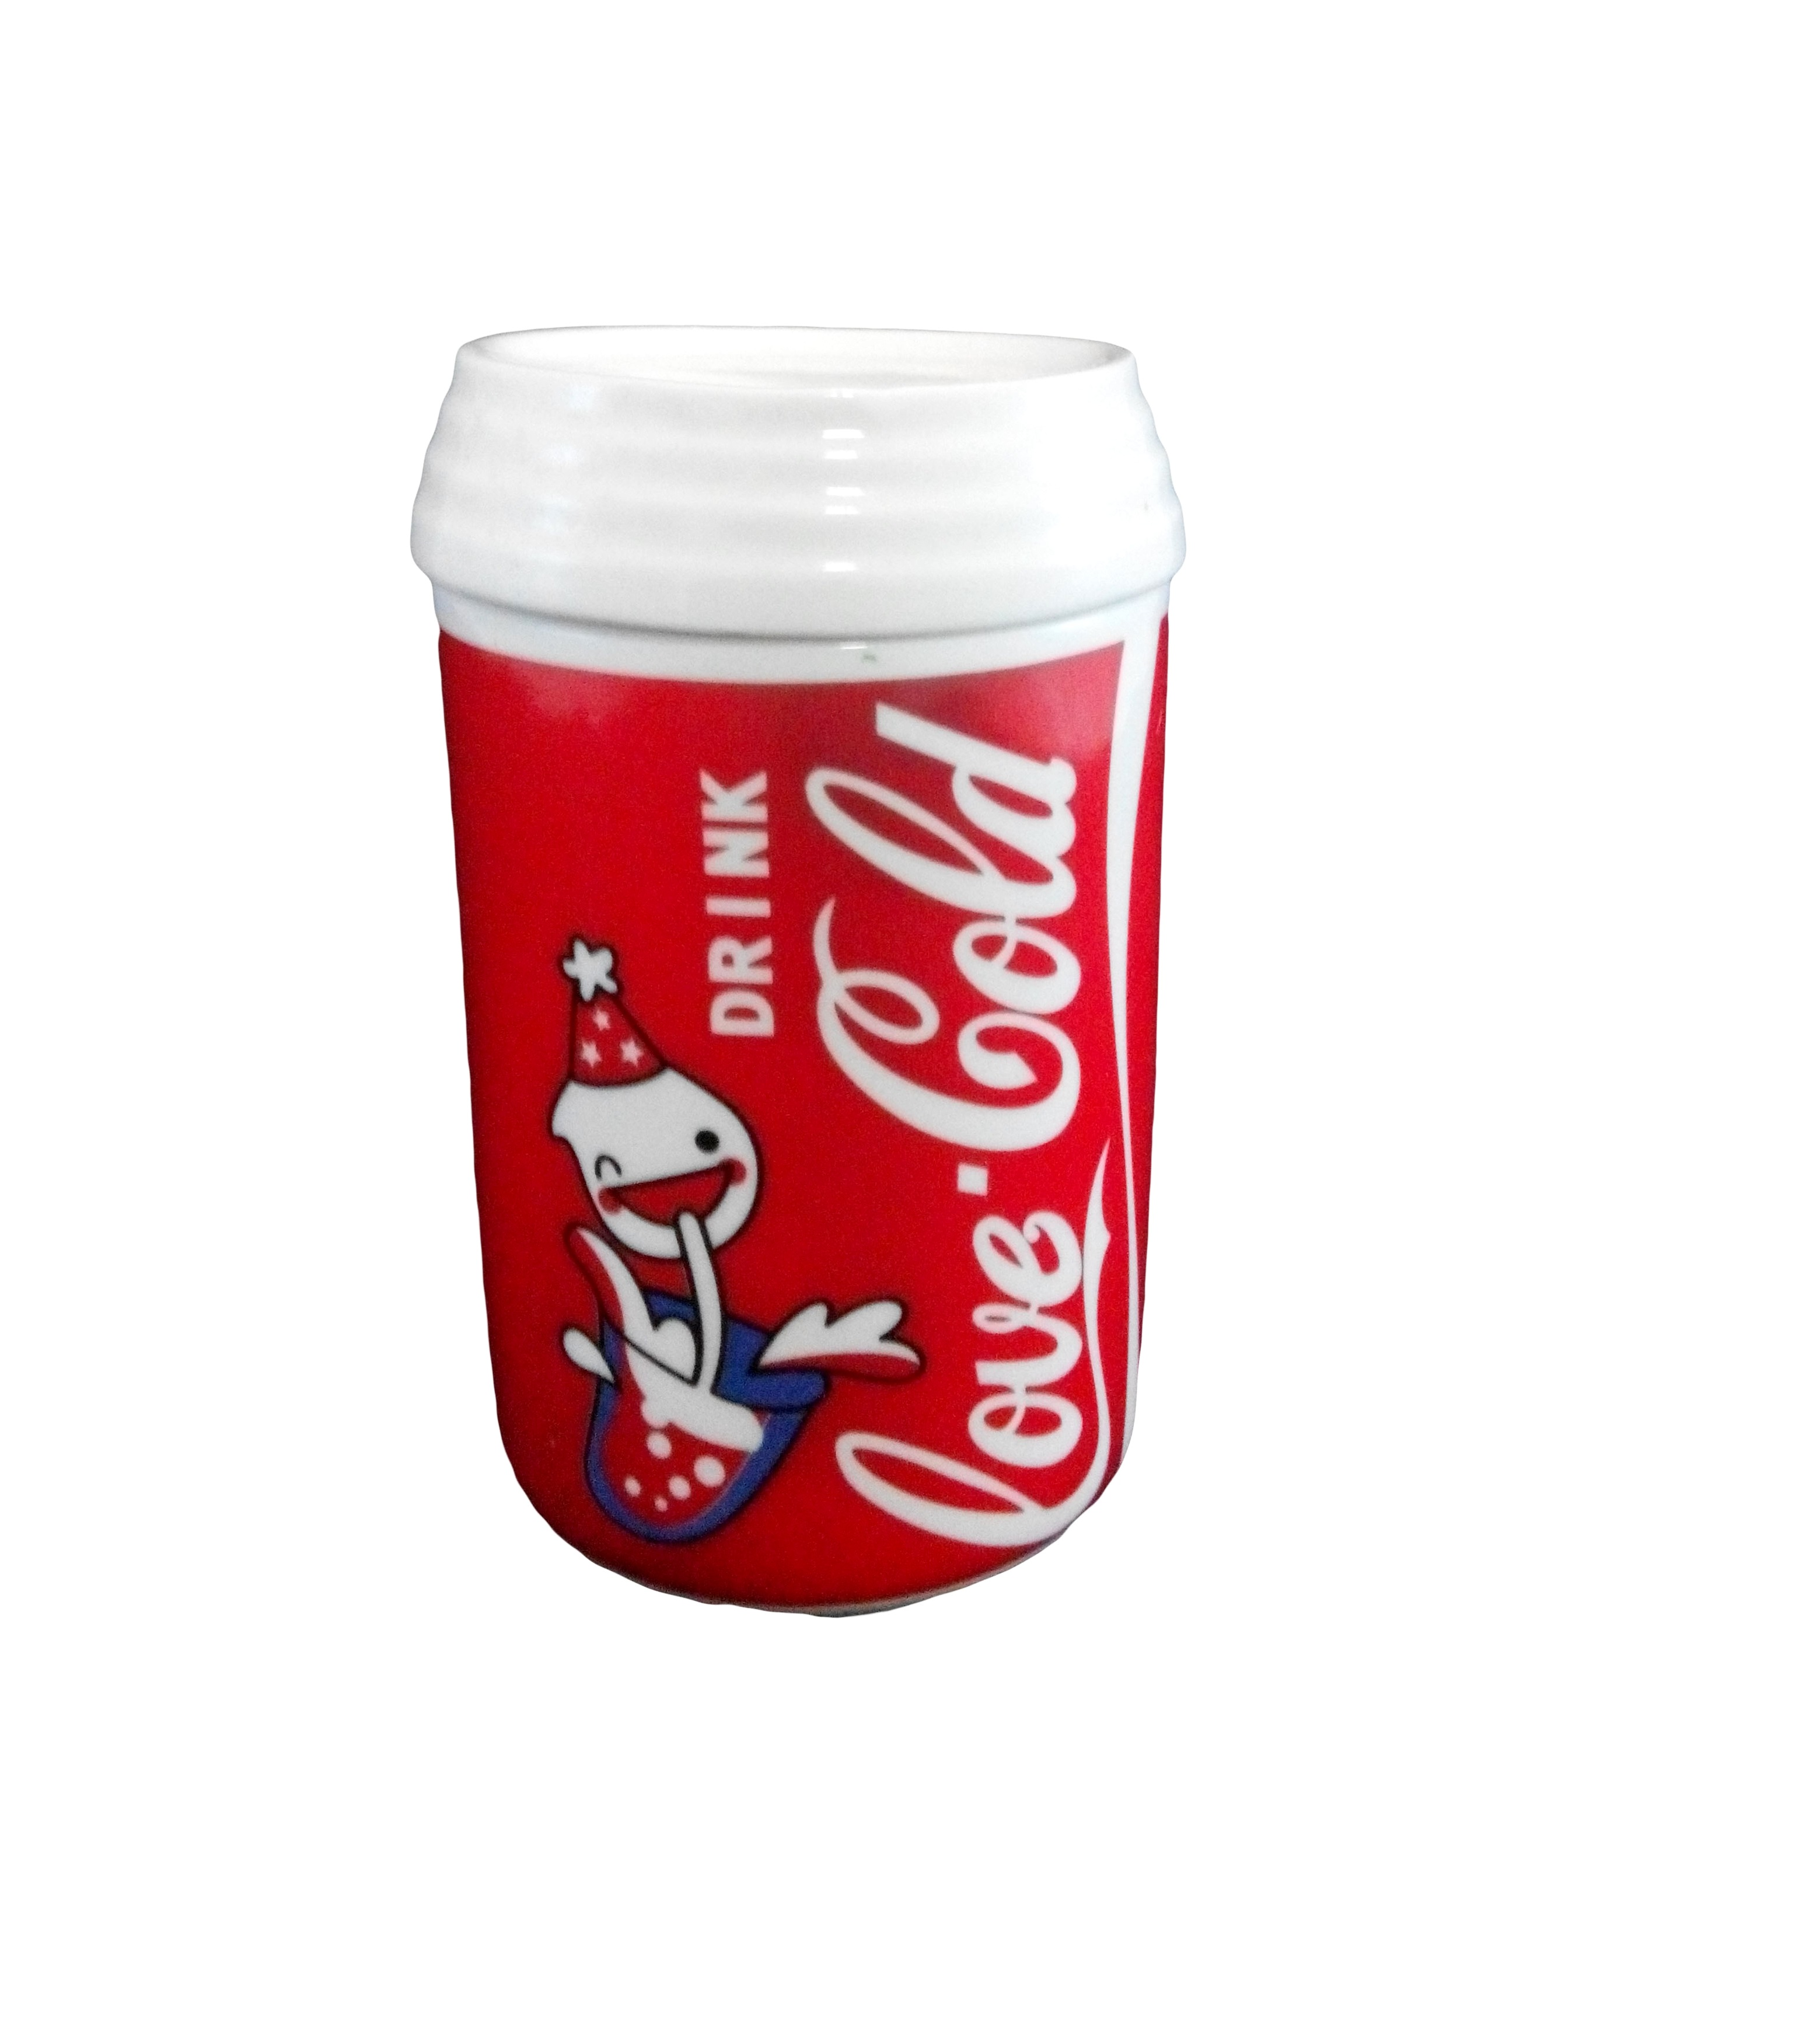coke: (775, 678, 1107, 1576)
